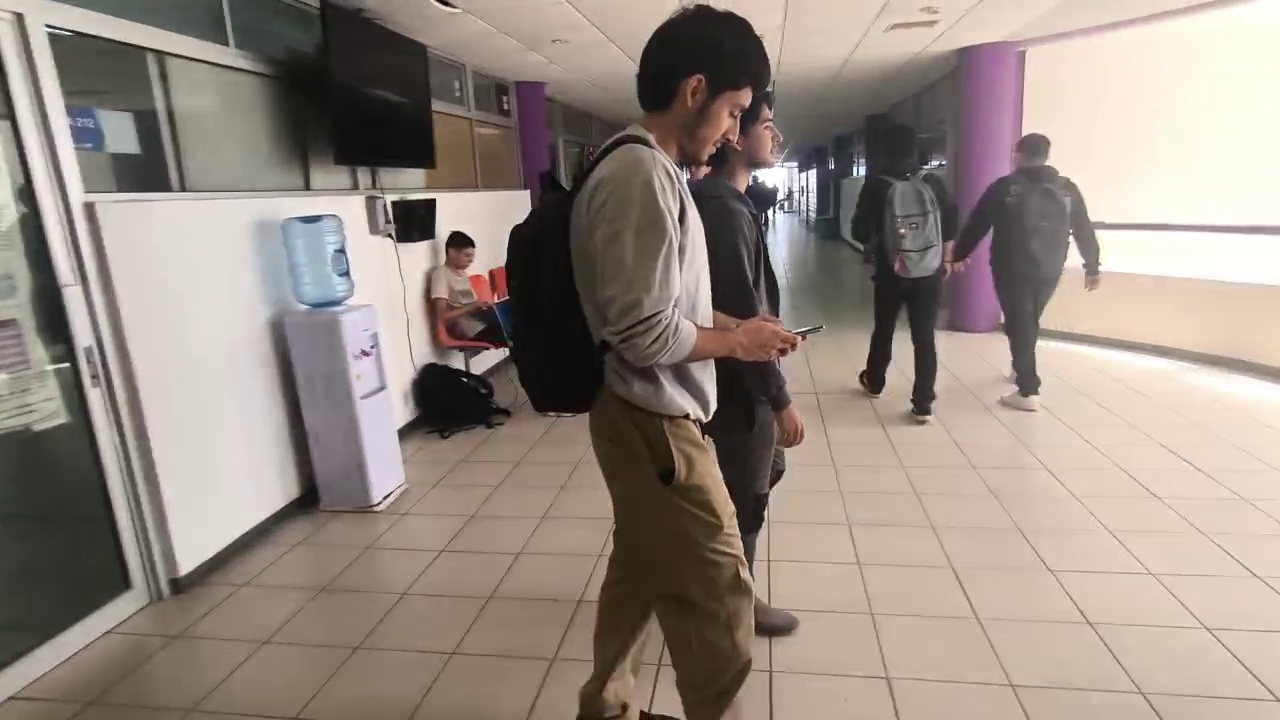mixto2: (780, 318, 827, 339)
